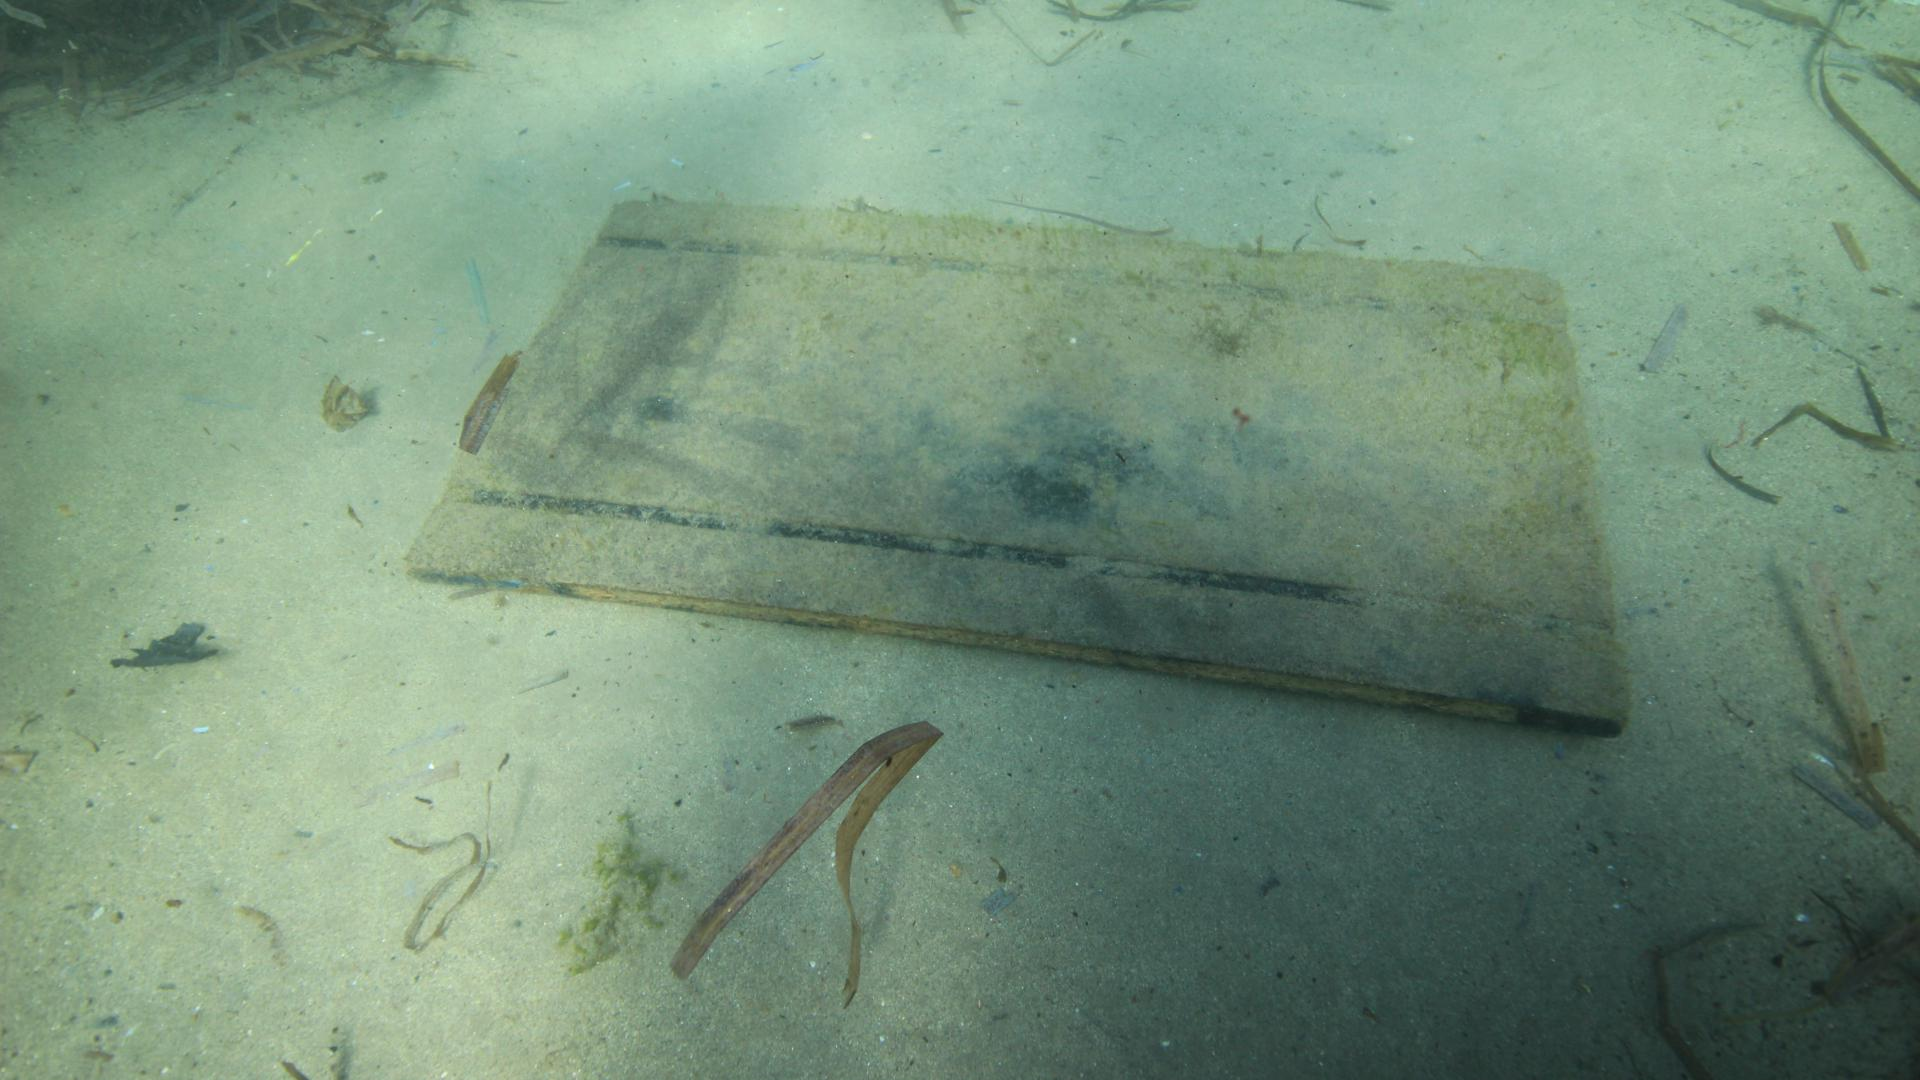wood: (405, 196, 1631, 740)
